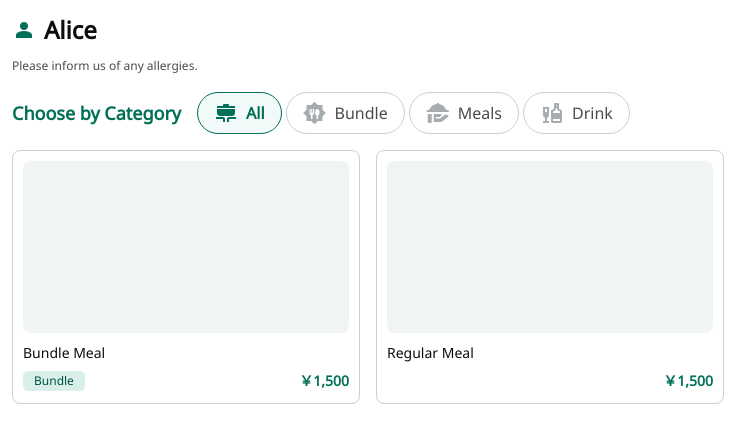
Test: MealSelectionFlow › category filtering › filters to bundle meals when Bundle chip is clicked
The image size is (741, 421).
Click the button "Bundle" at (345, 113), box [286,92,405,134]
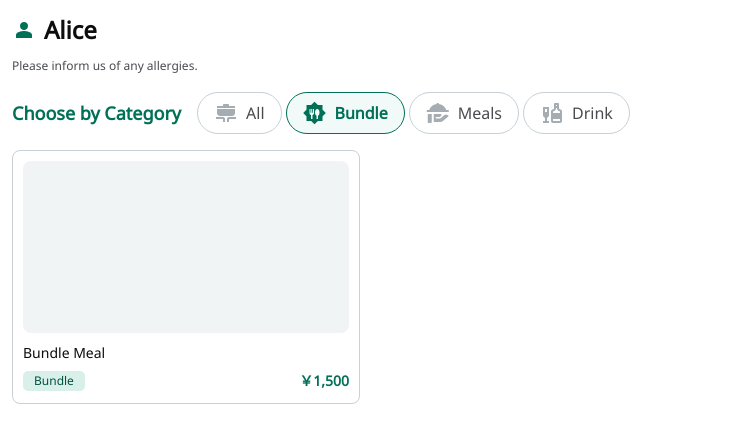
Expected: the text "Bundle Meal" is shown, [23,343,105,362]
Expected: the button "Regular Meal" is gone
